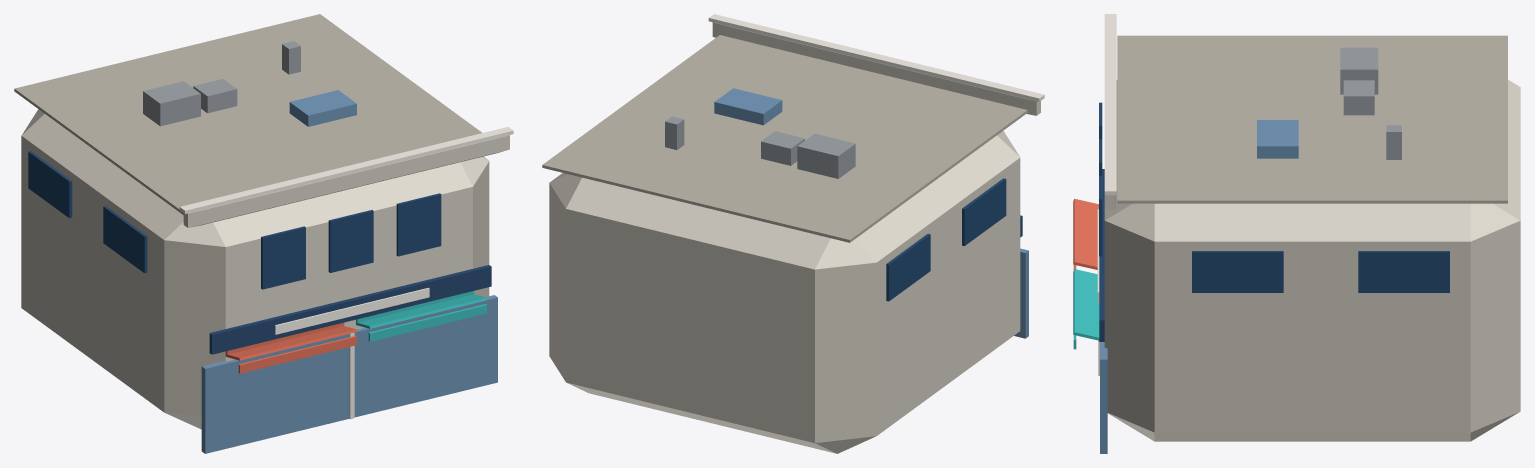
Rendered from shop_w12_f2_stripe.glb.
The picture shows the model from 3 angles, left to right: view 1: azimuth 30°, elevation 25°; view 2: azimuth 150°, elevation 25°; view 3: azimuth 270°, elevation 25°; orthographic projection. The views are drawn at different scales.
Parts seen in each view (by area): view 1: walls, roofslab, shopglass, parapet, fascia, pcap, win.002, win.001, win, hvac, sb, sb.002 (+9 smaller); view 2: walls, roofslab, parapet, pcap, hvac, sb.002, sb, skylt, hvac2, shopglass, pipe; view 3: walls, roofslab, sb.001, sb.003, pcap, awn.001, awn, skylt, hvac, hvac2, shopglass, fascia (+1 smaller).
Boxes of the visible parts, left/top/right/bottom form: walls: left=21, top=109, right=489, bottom=429; roofslab: left=14, top=14, right=481, bottom=214; shopglass: left=201, top=295, right=497, bottom=453; parapet: left=183, top=135, right=509, bottom=227; fascia: left=209, top=265, right=491, bottom=354; pcap: left=179, top=127, right=513, bottom=213; win.002: left=396, top=193, right=441, bottom=256; win.001: left=328, top=210, right=373, bottom=272; win: left=261, top=226, right=305, bottom=289; hvac: left=143, top=81, right=200, bottom=126; sb: left=103, top=206, right=147, bottom=273; sb.002: left=28, top=151, right=72, bottom=218; walls: left=549, top=131, right=1020, bottom=453; roofslab: left=542, top=35, right=1027, bottom=242; parapet: left=712, top=22, right=1040, bottom=115; pcap: left=708, top=14, right=1044, bottom=101; hvac: left=797, top=133, right=855, bottom=178; sb.002: left=886, top=233, right=930, bottom=301; sb: left=962, top=178, right=1006, bottom=245; skylt: left=714, top=88, right=782, bottom=125; hvac2: left=761, top=131, right=804, bottom=165; shopglass: left=1014, top=248, right=1028, bottom=338; pipe: left=665, top=116, right=684, bottom=149; walls: left=1104, top=80, right=1520, bottom=441; roofslab: left=1117, top=35, right=1507, bottom=203; sb.001: left=1192, top=251, right=1283, bottom=292; sb.003: left=1358, top=251, right=1449, bottom=292; pcap: left=1104, top=14, right=1116, bottom=195; awn.001: left=1073, top=269, right=1099, bottom=340; awn: left=1073, top=198, right=1098, bottom=269; skylt: left=1257, top=120, right=1298, bottom=158; hvac: left=1340, top=47, right=1378, bottom=94; hvac2: left=1343, top=80, right=1374, bottom=115; shopglass: left=1100, top=342, right=1107, bottom=453; fascia: left=1099, top=169, right=1104, bottom=341.
Bounding box in the file's own units: 12.2 × 9.1 × 12.91.
